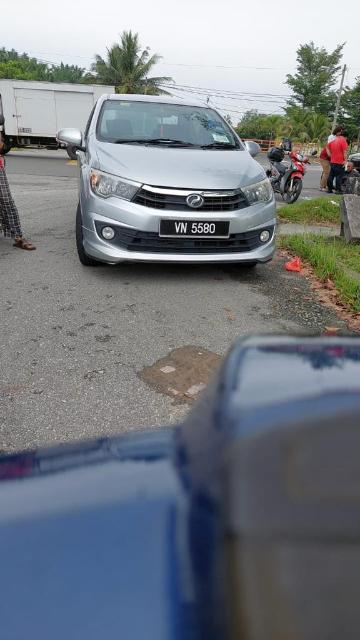License_Plate: (162, 218, 231, 239)
car: (55, 94, 284, 271)
